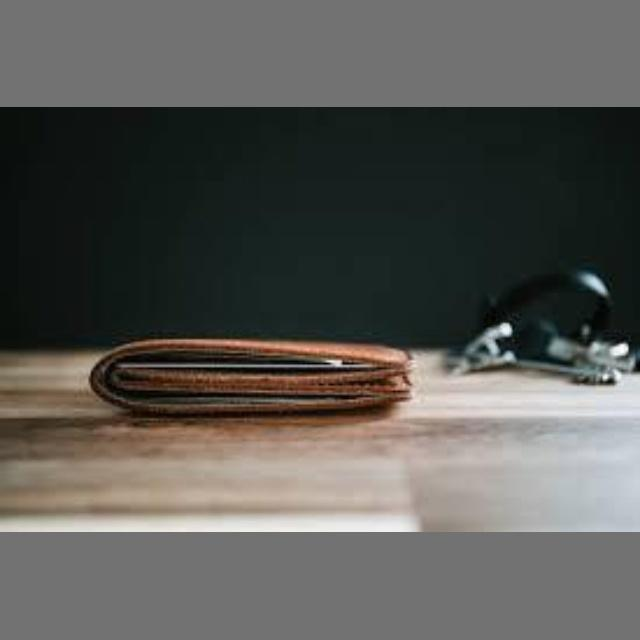Wallet: (95, 334, 415, 422)
